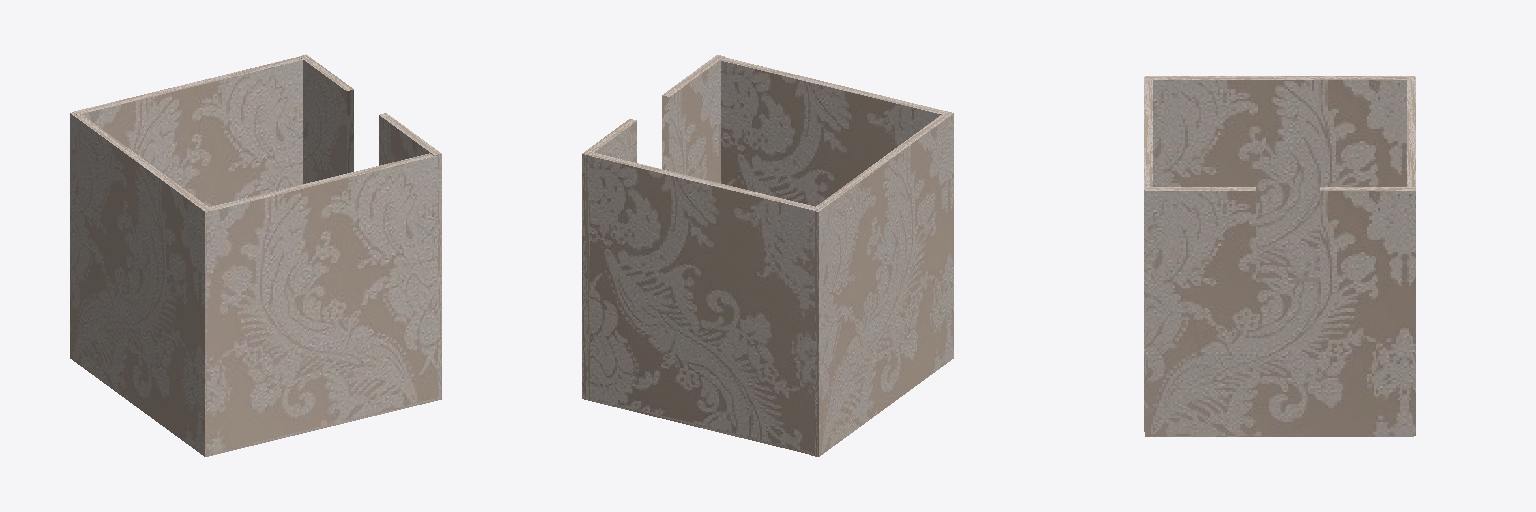
3 views of the same model, side by side, from view 1: azimuth 30°, elevation 25°; view 2: azimuth 150°, elevation 25°; view 3: azimuth 270°, elevation 25° (orthographic).
Parts seen in each view (by area): view 1: pCube3, pCube2, pasted__pCube3 group3, pasted__pCube2 group1, pCube1; view 2: pasted__pCube3 group3, pCube2, pCube3, pasted__pCube2 group1, pCube1; view 3: pasted__pCube2 group1, pCube2, pCube3, pasted__pCube3 group3.
Boxes of the visible parts, x1=… form: pCube3: x1=207, y1=153, x2=437, y2=453; pCube2: x1=70, y1=112, x2=212, y2=456; pasted__pCube3 group3: x1=74, y1=57, x2=302, y2=206; pasted__pCube2 group1: x1=299, y1=54, x2=441, y2=400; pCube1: x1=213, y1=399, x2=441, y2=454; pasted__pCube3 group3: x1=590, y1=153, x2=818, y2=452; pCube2: x1=811, y1=111, x2=953, y2=456; pCube3: x1=721, y1=57, x2=945, y2=206; pasted__pCube2 group1: x1=582, y1=55, x2=724, y2=400; pCube1: x1=590, y1=398, x2=810, y2=454; pasted__pCube2 group1: x1=1145, y1=187, x2=1415, y2=435; pCube2: x1=1145, y1=76, x2=1414, y2=277; pCube3: x1=1144, y1=77, x2=1152, y2=431; pasted__pCube3 group3: x1=1407, y1=77, x2=1415, y2=186.
Size of the model in its own units: 15.94 by 15.84 by 15.82.
Materials: 3 (1 with a texture image).